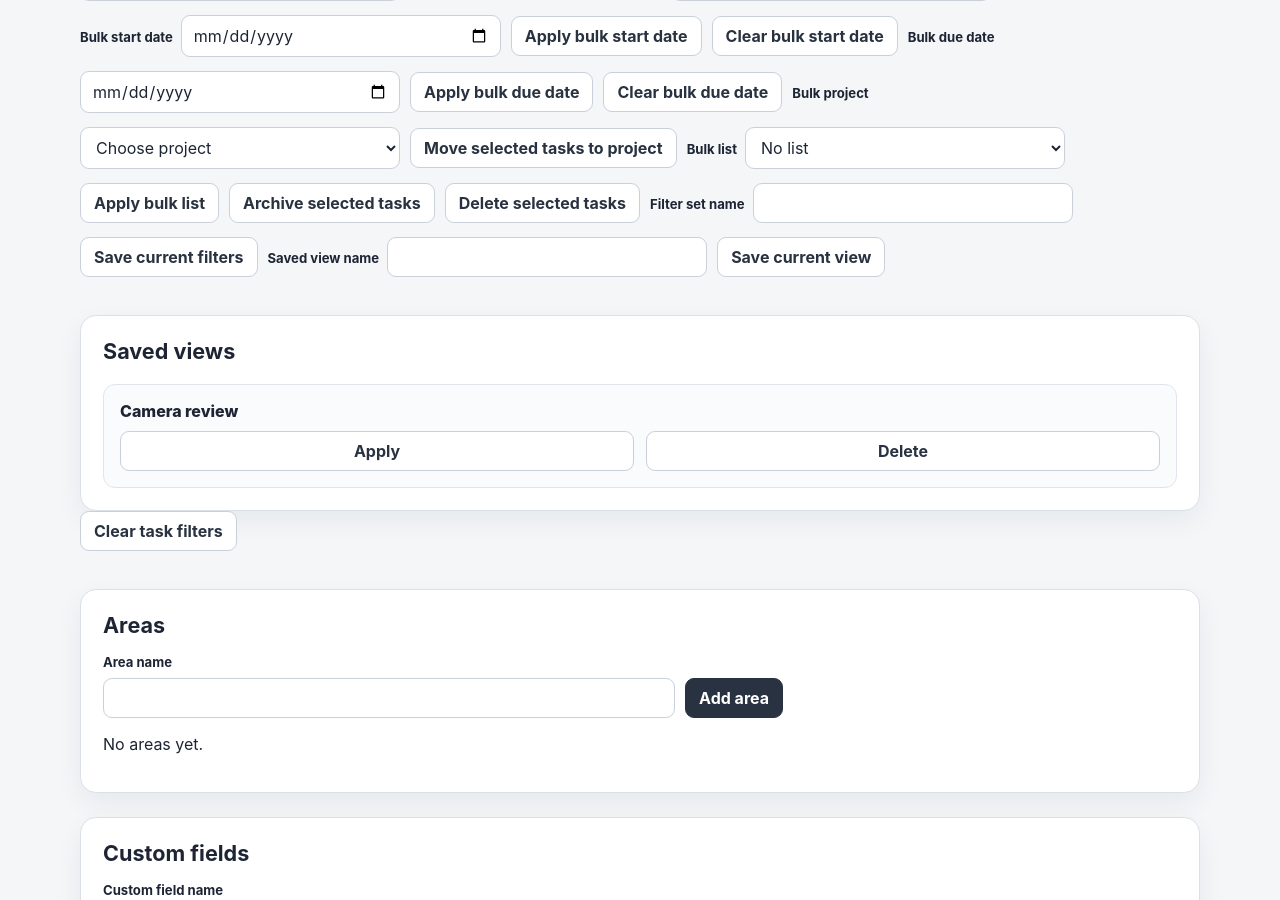
Test: WorkspaceRoot saved Task views › applies and deletes a saved view with Project focus, filters, sort, and grouping
(page scrolled)
What coordinates should you click on to do the following:
click the button with aria-label "Apply saved view Camera review"
I would click on:
 (377, 451)
Its box is 120,431 -> 634,471.
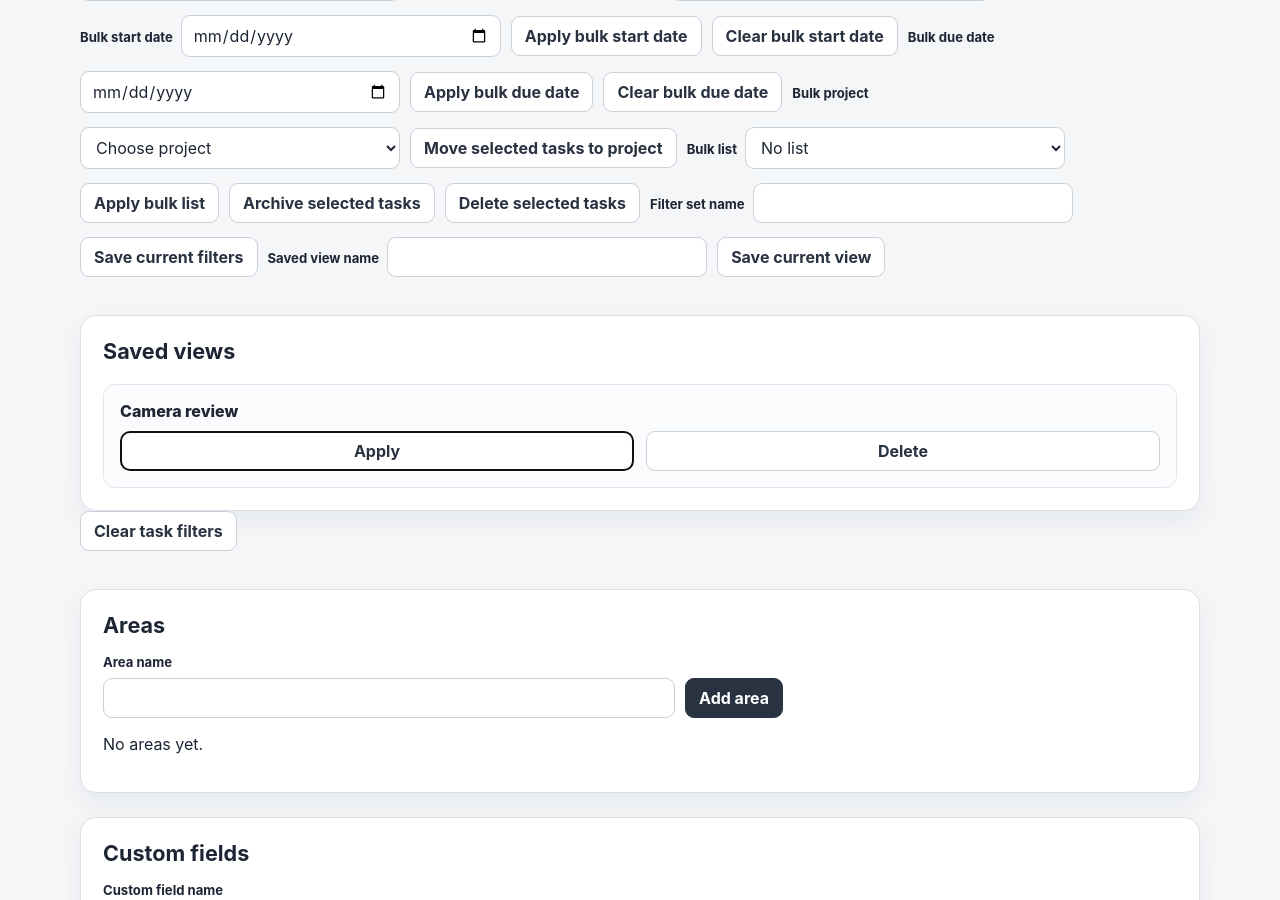
What coordinates should you click on to do the following:
click the button with aria-label "Delete saved view Camera review"
I would click on:
 (903, 451)
Its box is 646,431 -> 1160,471.
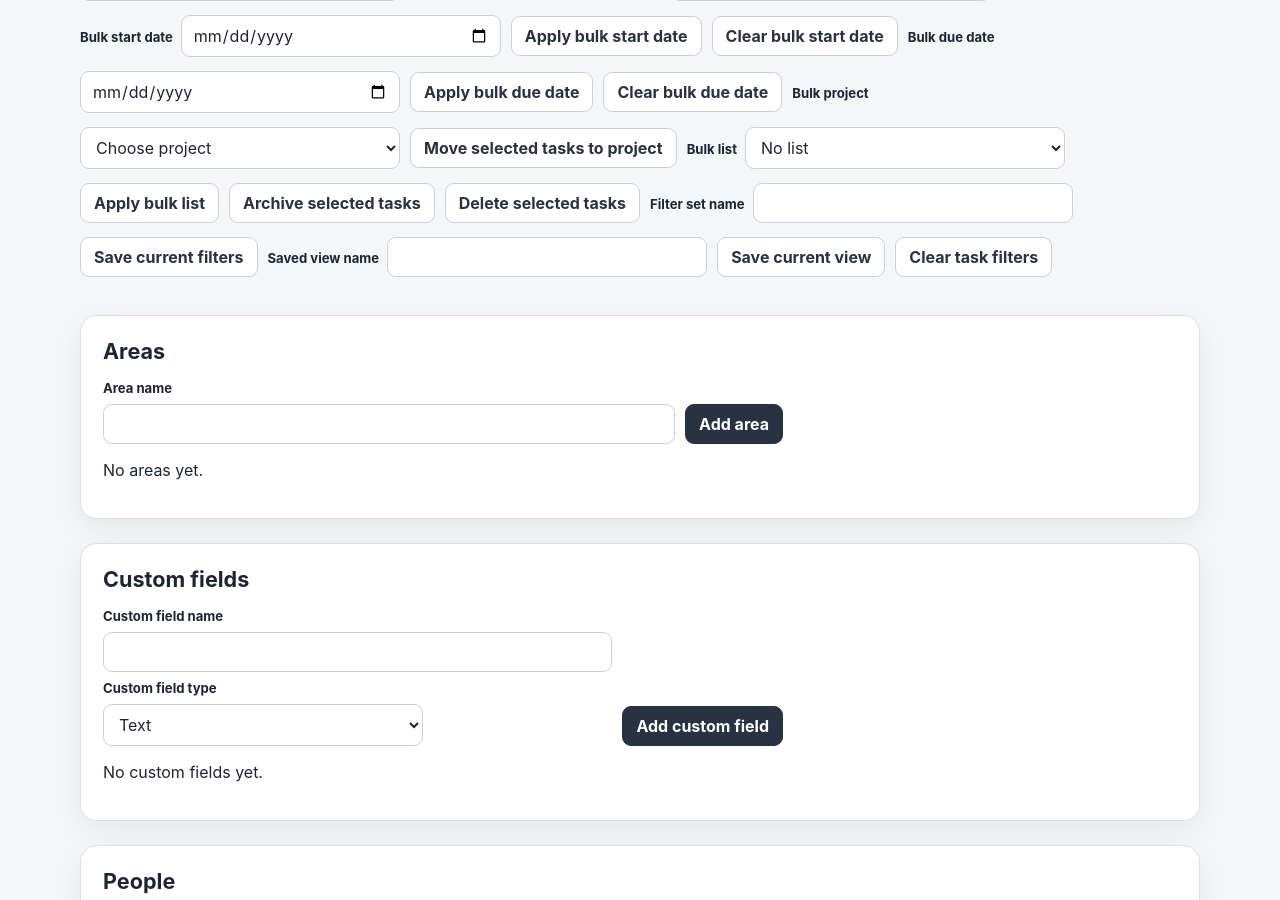
Check: the heading "Saved views" is gone
